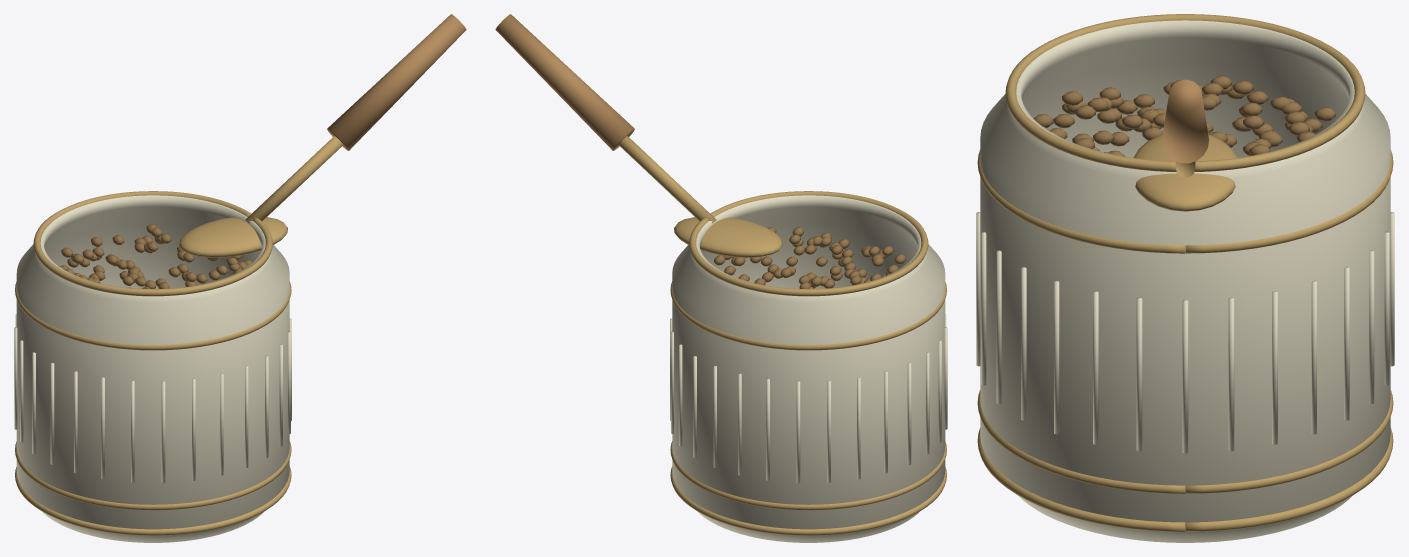
The model's file is fertilizer-tin.glb.
3 renders of one model, left to right at view 1: azimuth 30°, elevation 25°; view 2: azimuth 150°, elevation 25°; view 3: azimuth 270°, elevation 25°, orthographic. The views are drawn at different scales.
Visible parts, largest first — view 1: Fertilizer_tin_Ivory ceramic fertilizer tin, Fertilizer_tin_Brushed warm brass, Fertilizer_tin_Oiled ash grip, Fertilizer_tin_Slow release granules; view 2: Fertilizer_tin_Ivory ceramic fertilizer tin, Fertilizer_tin_Brushed warm brass, Fertilizer_tin_Oiled ash grip, Fertilizer_tin_Slow release granules; view 3: Fertilizer_tin_Ivory ceramic fertilizer tin, Fertilizer_tin_Brushed warm brass, Fertilizer_tin_Slow release granules, Fertilizer_tin_Oiled ash grip.
Boxes of the visible parts, bbox=[...] form: Fertilizer_tin_Ivory ceramic fertilizer tin: bbox=[14, 195, 291, 542]; Fertilizer_tin_Brushed warm brass: bbox=[15, 136, 342, 535]; Fertilizer_tin_Oiled ash grip: bbox=[327, 14, 466, 150]; Fertilizer_tin_Slow release granules: bbox=[58, 224, 252, 288]; Fertilizer_tin_Ivory ceramic fertilizer tin: bbox=[670, 195, 947, 542]; Fertilizer_tin_Brushed warm brass: bbox=[619, 136, 946, 535]; Fertilizer_tin_Oiled ash grip: bbox=[495, 14, 634, 150]; Fertilizer_tin_Slow release granules: bbox=[714, 227, 905, 288]; Fertilizer_tin_Ivory ceramic fertilizer tin: bbox=[976, 20, 1394, 542]; Fertilizer_tin_Brushed warm brass: bbox=[977, 14, 1393, 531]; Fertilizer_tin_Slow release granules: bbox=[1033, 75, 1335, 156]; Fertilizer_tin_Oiled ash grip: bbox=[1161, 79, 1209, 163].
Size of the model in its own units: 0.5368 by 0.4797 by 0.3.
